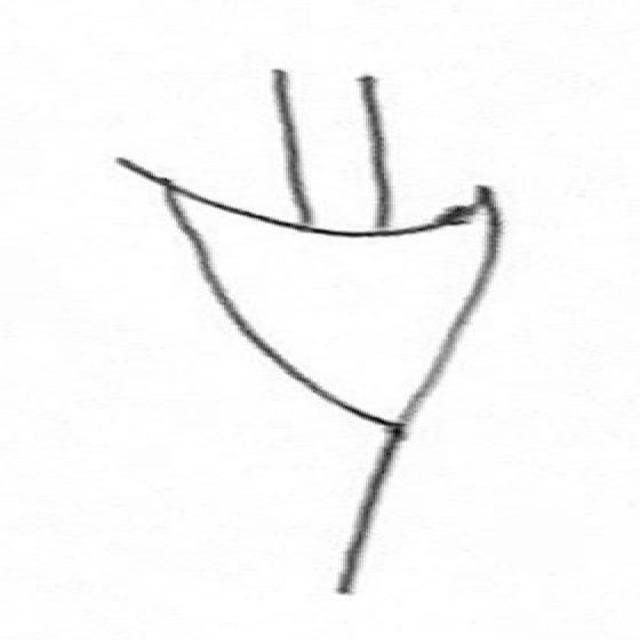OR: (80, 142, 623, 470)
